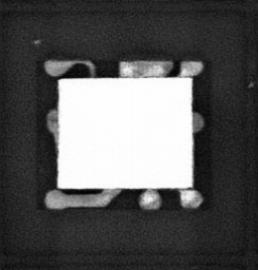DIE_INK: (31, 36, 42, 46), (247, 81, 255, 88)
